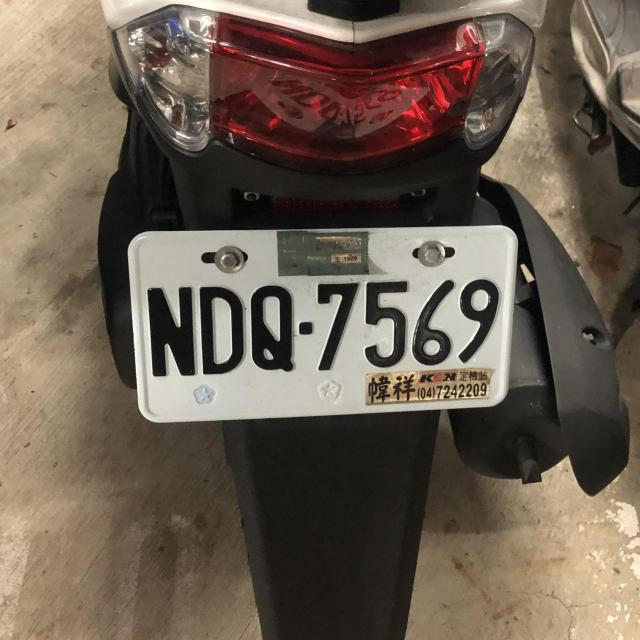W: (119, 218, 518, 426)
